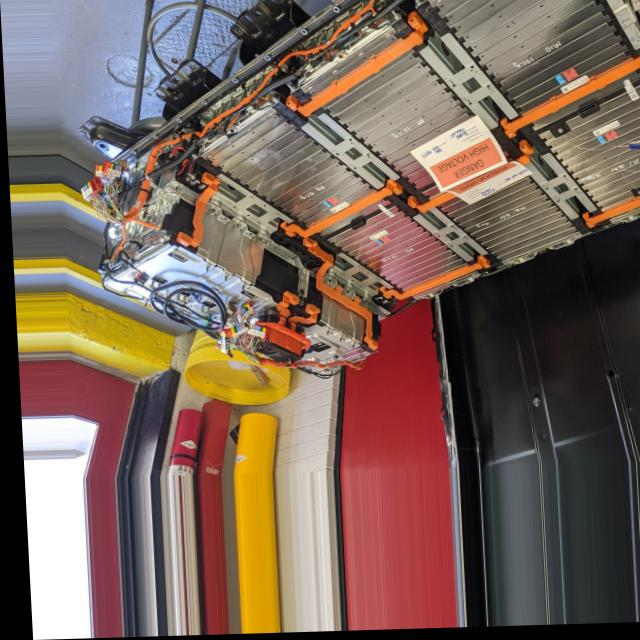Aluminum-frame: (418, 36, 516, 135), (299, 114, 398, 192), (524, 155, 596, 227), (208, 175, 292, 234), (411, 210, 484, 266), (324, 253, 393, 302), (604, 0, 640, 55)
Battery Module: (299, 32, 495, 190), (201, 108, 385, 239), (429, 0, 626, 118), (434, 166, 575, 267), (326, 209, 470, 301), (539, 91, 640, 215)
Bolt: (634, 2, 640, 12)
Bus-bar: (284, 20, 426, 120), (502, 62, 640, 143), (408, 150, 533, 217), (301, 241, 376, 351), (283, 185, 400, 240), (380, 260, 487, 304), (188, 179, 215, 247), (581, 202, 640, 232), (286, 306, 315, 332), (273, 293, 294, 324)
Cable: (125, 0, 381, 220), (245, 358, 356, 373)
Nut: (204, 203, 214, 217), (219, 272, 230, 283), (201, 263, 210, 274), (321, 329, 332, 338), (254, 235, 263, 244), (333, 336, 342, 345), (344, 341, 353, 350), (322, 277, 330, 286), (235, 285, 245, 292), (341, 290, 348, 298), (232, 220, 237, 229), (358, 301, 364, 308)
Screw: (296, 289, 301, 306)
